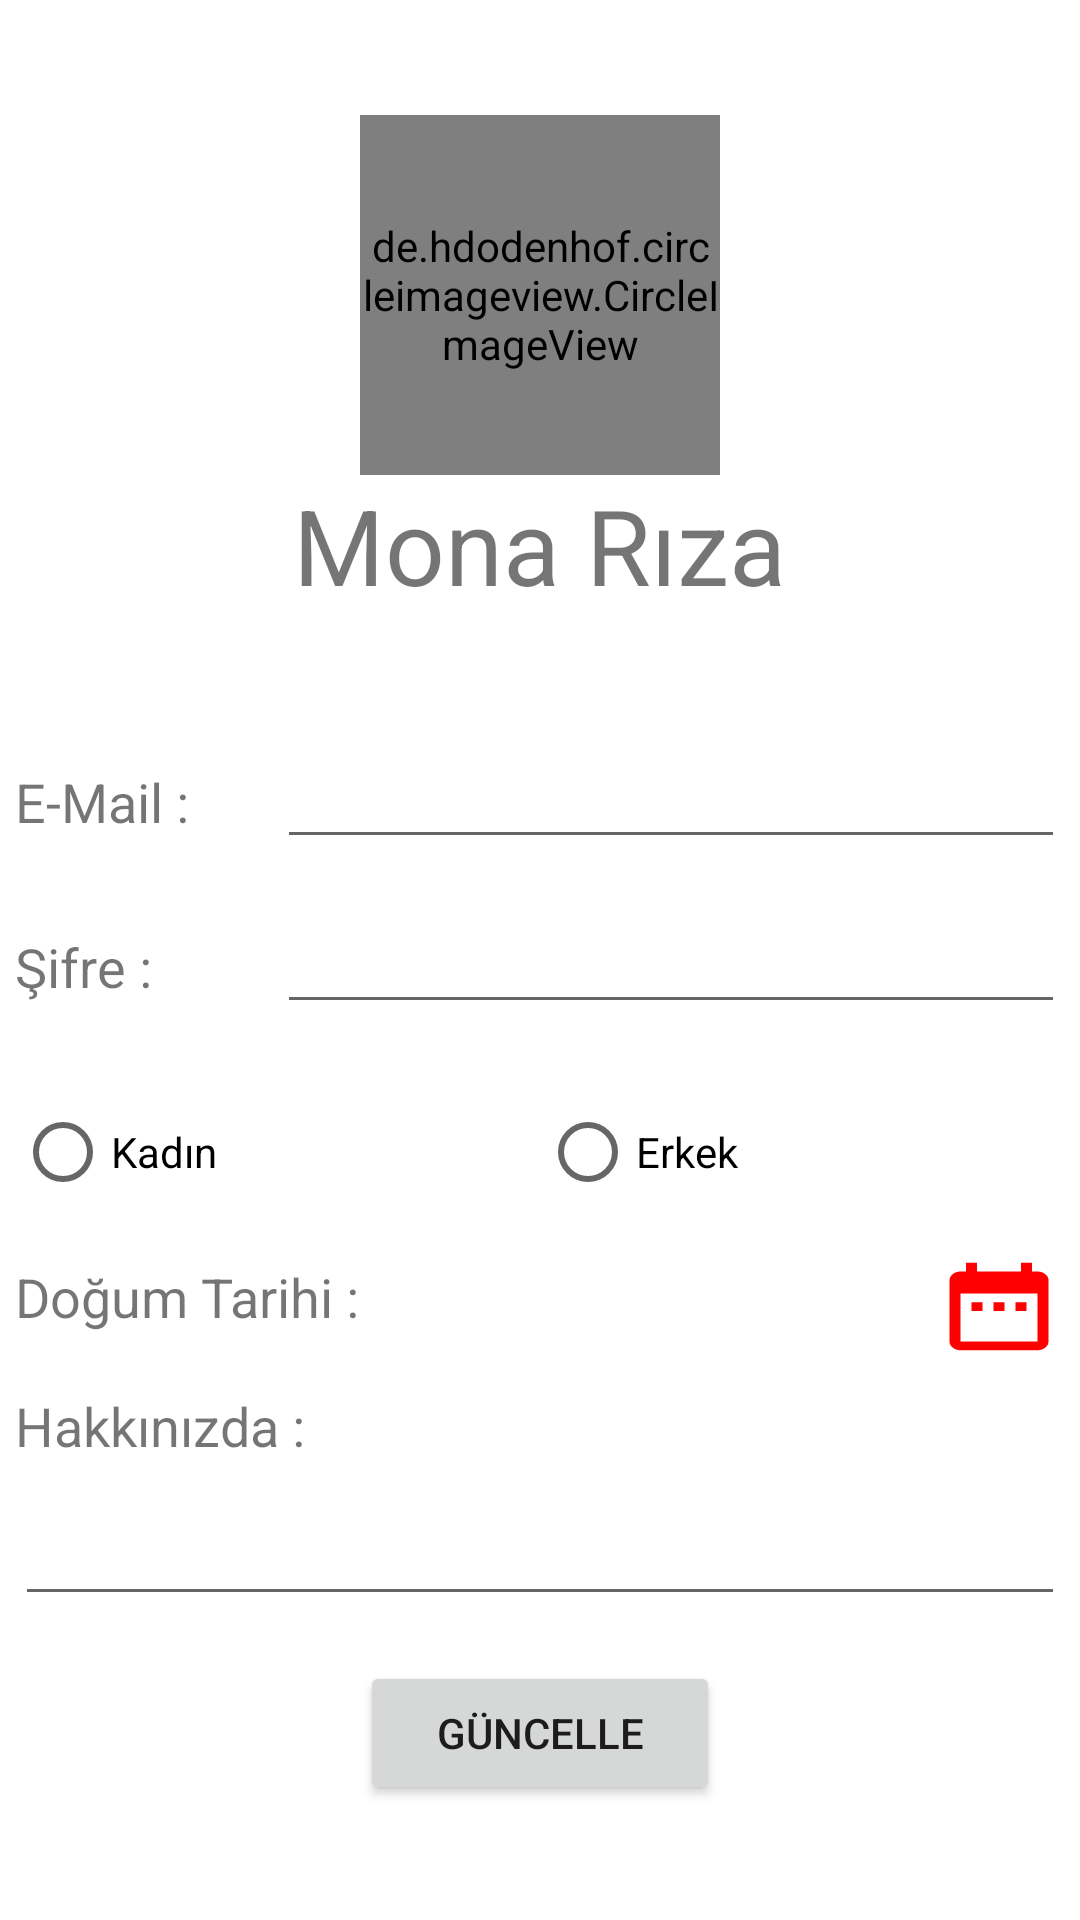

Screen size 1080px x 1920px. Icon name, then its box in pixels as (x1, y1, x2, y2):
Date: (949, 1262, 1049, 1351)
